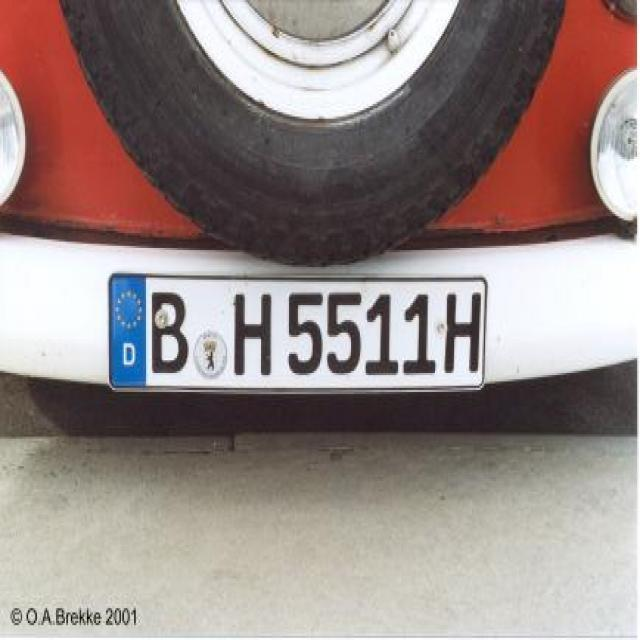License_Plate: (106, 270, 494, 389)
